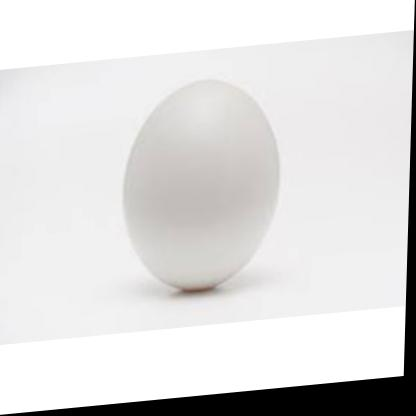egg: (116, 72, 294, 307)
